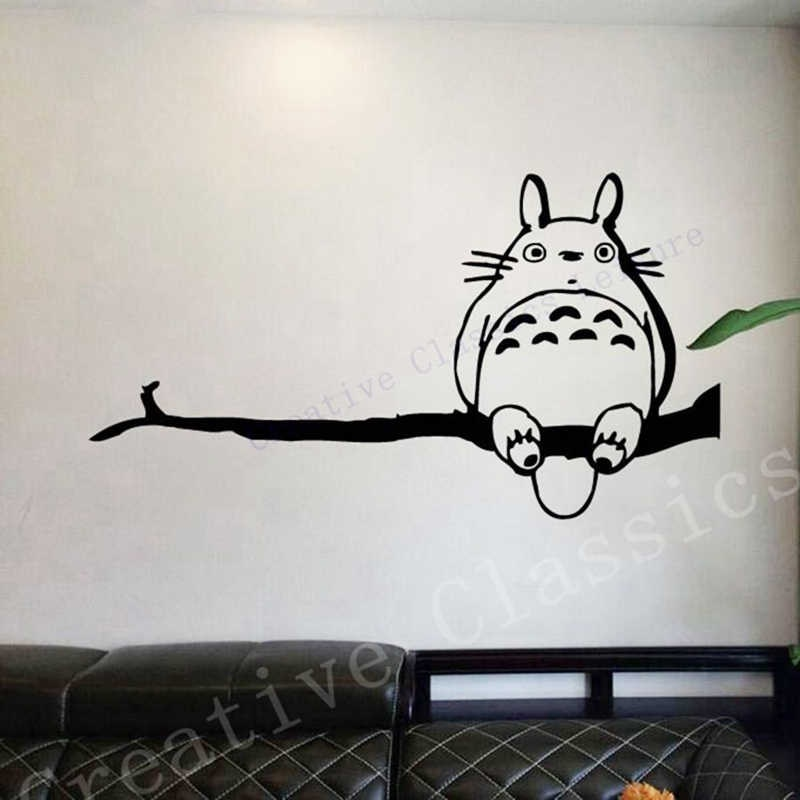Totoro: (451, 167, 683, 520)
